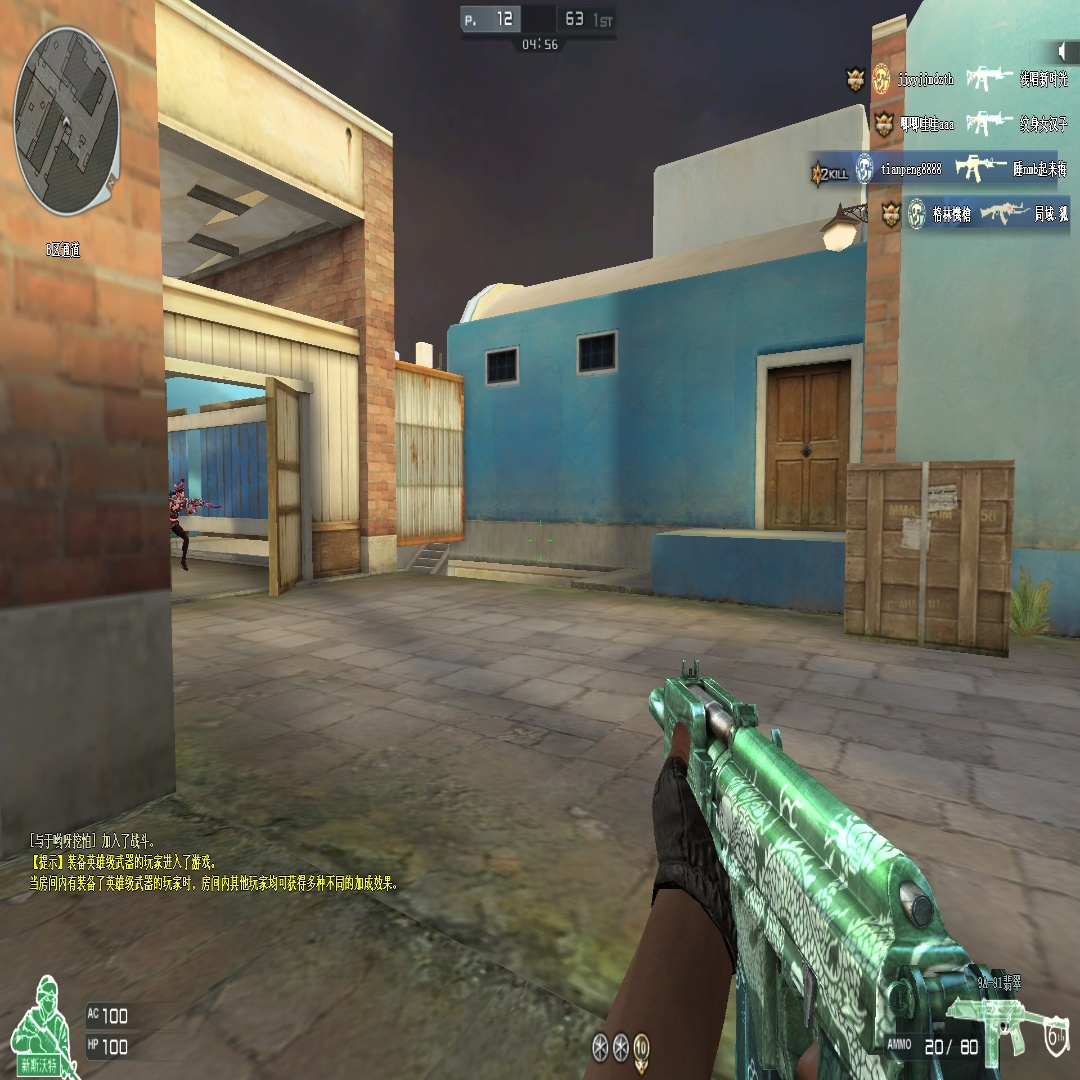p: (170, 478, 192, 568)
